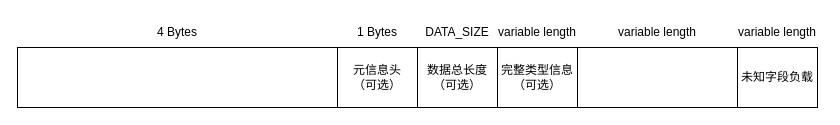
Image size: 840x125. Some labels were removed from this diagram. Each missing label, with the centre of its shape:
"已知字段负载" goes at [657,77].
"类型哈希" goes at [177,77].
